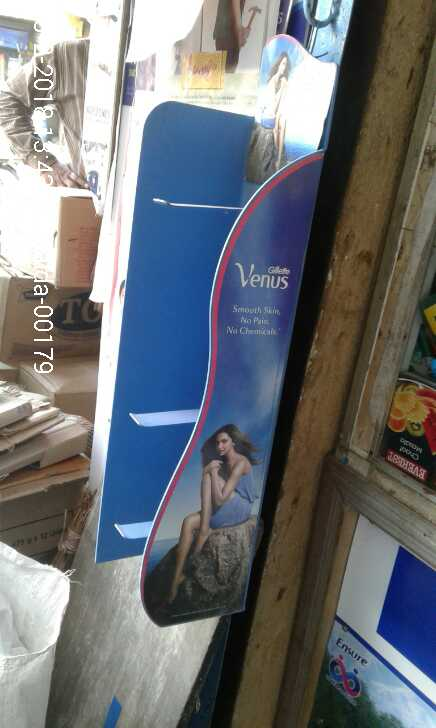reject: (168, 274, 260, 413)
